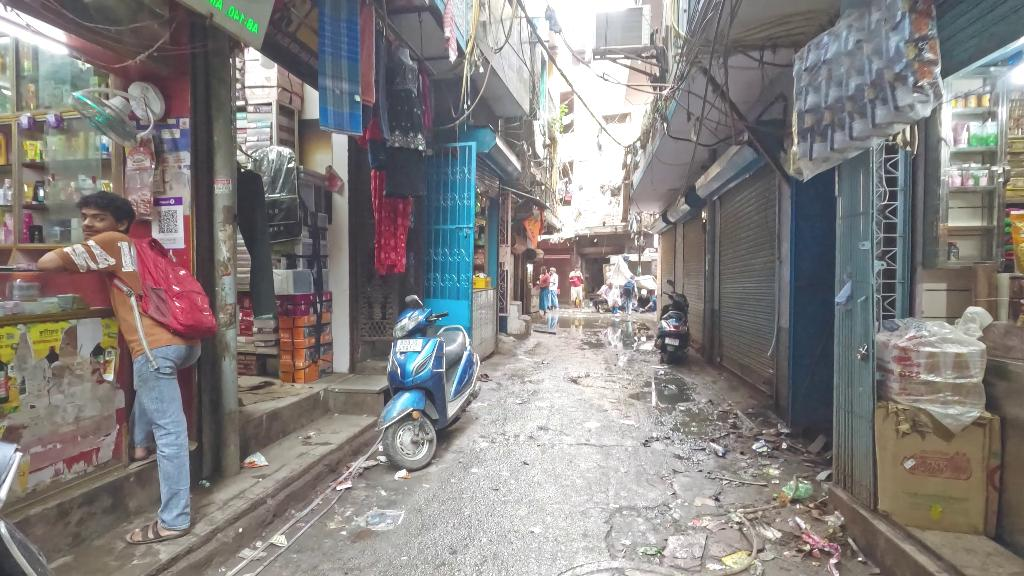garbage: (780, 478, 814, 500), (721, 550, 754, 567), (240, 451, 269, 470), (708, 441, 727, 457), (752, 439, 772, 454), (270, 535, 287, 547)
